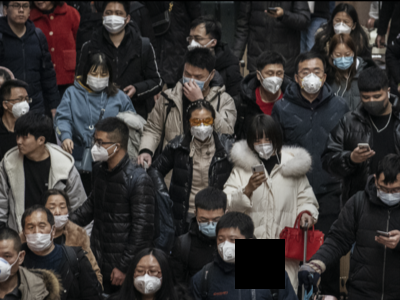mask_weared_incorrect: (46, 199, 68, 232)
with_mask: (215, 232, 245, 265), (24, 219, 52, 254), (132, 262, 160, 295), (194, 212, 223, 240), (180, 68, 207, 96), (298, 64, 322, 94), (188, 114, 213, 142), (100, 8, 125, 35), (260, 67, 285, 94), (361, 91, 388, 116), (0, 246, 17, 285), (374, 180, 399, 206), (8, 92, 30, 120), (88, 134, 110, 162), (85, 69, 109, 93), (184, 31, 209, 54), (253, 134, 275, 160), (333, 15, 351, 37)
without_mask: (14, 130, 34, 156), (7, 2, 30, 24)
